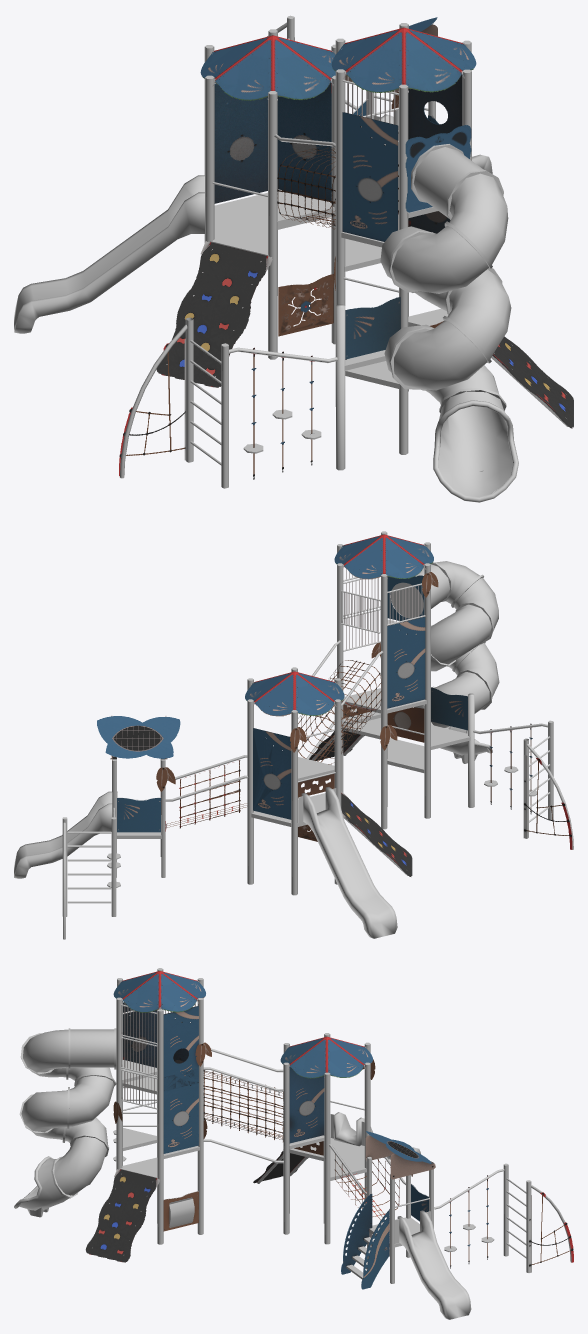
Rendered from KIDS_PLAYGROUND.obj.
3 renders of one model, top to bottom at view 1: azimuth 30°, elevation 25°; view 2: azimuth 150°, elevation 25°; view 3: azimuth 270°, elevation 25°, orthographic. The views are drawn at different scales.
Parts seen in each view (by area): view 1: Cube.001, Cube.002; view 2: Cube.001, Cube.002; view 3: Cube.001, Cube.002.
Boxes of the visible parts, box(x1,y1,x2,y2) form: Cube.001: box(14, 15, 568, 502); Cube.002: box(119, 17, 573, 479); Cube.001: box(14, 531, 573, 939); Cube.002: box(97, 534, 572, 876); Cube.001: box(14, 968, 571, 1319); Cube.002: box(85, 971, 573, 1289).
Size of the model in its own units: 9.17 by 5.85 by 11.75.
